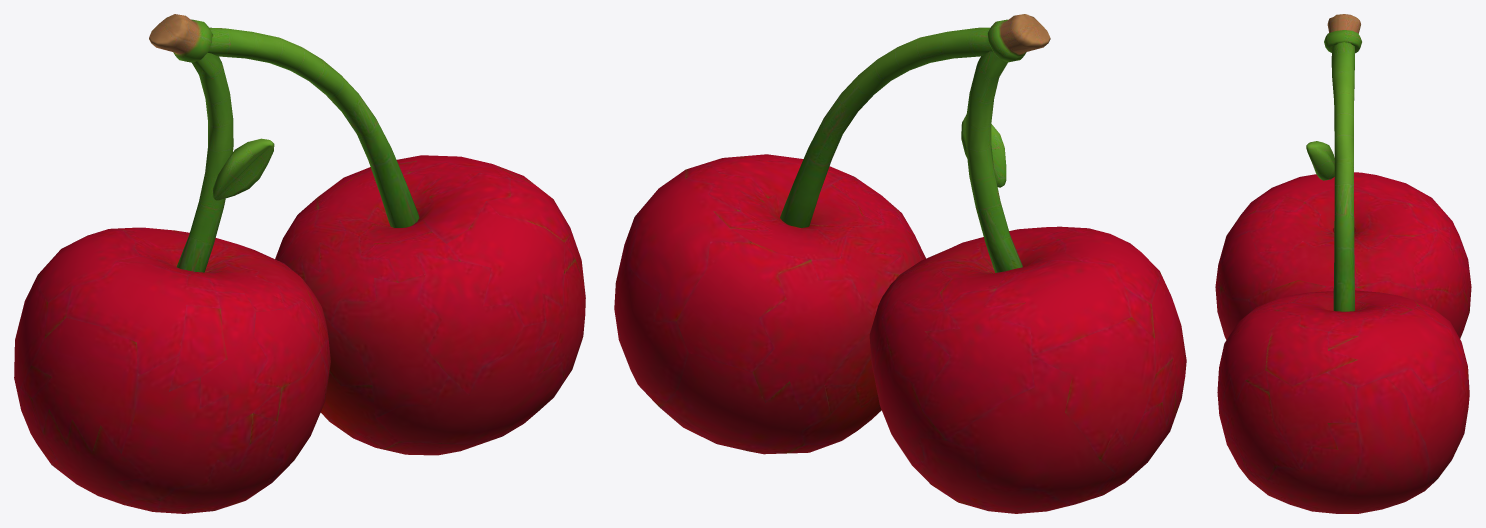
Rendered from f02_cherry.glb.
The picture shows the model from 3 angles, left to right: view 1: azimuth 30°, elevation 25°; view 2: azimuth 150°, elevation 25°; view 3: azimuth 270°, elevation 25°; orthographic projection. The views are drawn at different scales.
Parts seen in each view (by area): view 1: geometry_0; view 2: geometry_0; view 3: geometry_0.
Boxes of the visible parts, left/top/right/bottom form: geometry_0: left=14, top=14, right=585, bottom=513; geometry_0: left=614, top=14, right=1186, bottom=513; geometry_0: left=1215, top=14, right=1471, bottom=513.
Size of the model in its own units: 0.9575 by 0.8311 by 0.4932.
1 material, 1 textured.
